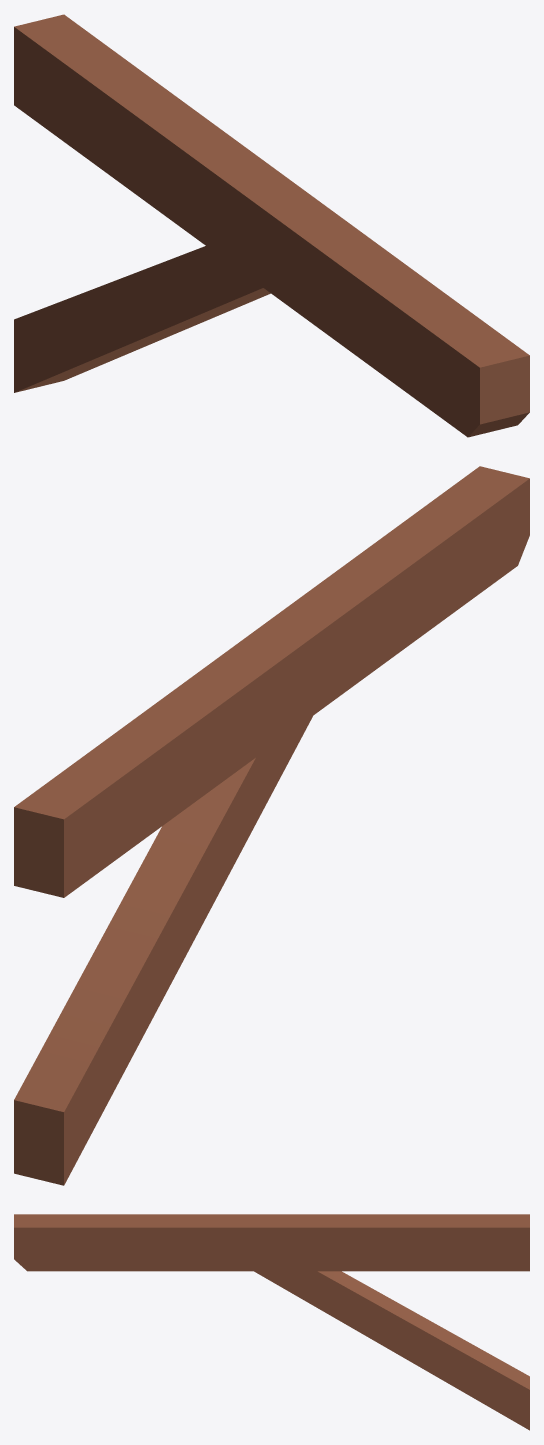
Rendered from LightWoodBuildingSmallSupportArm2.fbx.
3 renders of one model, top to bottom at view 1: azimuth 30°, elevation 25°; view 2: azimuth 150°, elevation 25°; view 3: azimuth 270°, elevation 25°, orthographic. The views are drawn at different scales.
Visible parts, largest first — view 1: LightWoodBuildingSmallSupportArm2; view 2: LightWoodBuildingSmallSupportArm2; view 3: LightWoodBuildingSmallSupportArm2.
Part boxes in pixels (x1=…): LightWoodBuildingSmallSupportArm2: x1=14, y1=14, x2=529, y2=437; LightWoodBuildingSmallSupportArm2: x1=14, y1=466, x2=529, y2=1185; LightWoodBuildingSmallSupportArm2: x1=14, y1=1214, x2=529, y2=1430.
Size of the model in its own units: 29.45 by 206 by 474.
